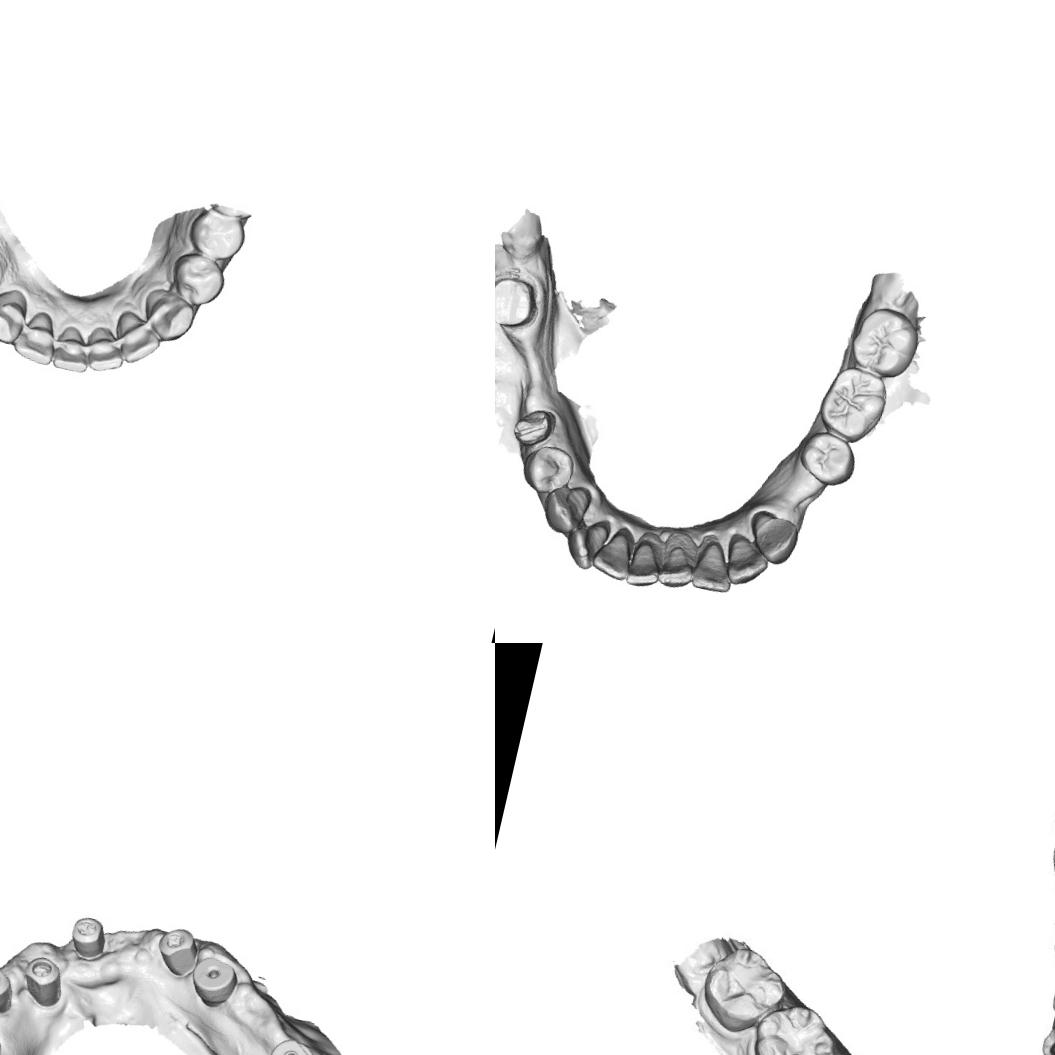canine: (135, 285, 201, 349), (742, 509, 804, 568), (537, 477, 595, 540), (0, 281, 32, 347)
crown: (495, 273, 544, 334), (509, 404, 559, 451)
implant: (150, 923, 203, 981), (187, 952, 241, 1008), (18, 952, 68, 1008), (65, 910, 111, 962), (262, 1031, 320, 1055), (0, 958, 17, 1015)
incisor: (107, 307, 167, 370), (9, 303, 64, 368), (560, 513, 613, 576), (720, 533, 774, 590), (688, 537, 740, 596), (80, 322, 132, 378), (588, 524, 637, 582), (50, 322, 96, 376), (656, 539, 700, 593), (624, 536, 666, 592)
molar: (694, 942, 786, 1034), (813, 361, 893, 447), (846, 300, 925, 380), (749, 999, 842, 1055)
premolar: (162, 248, 231, 313), (794, 427, 862, 492), (182, 203, 252, 266), (517, 440, 578, 500)
